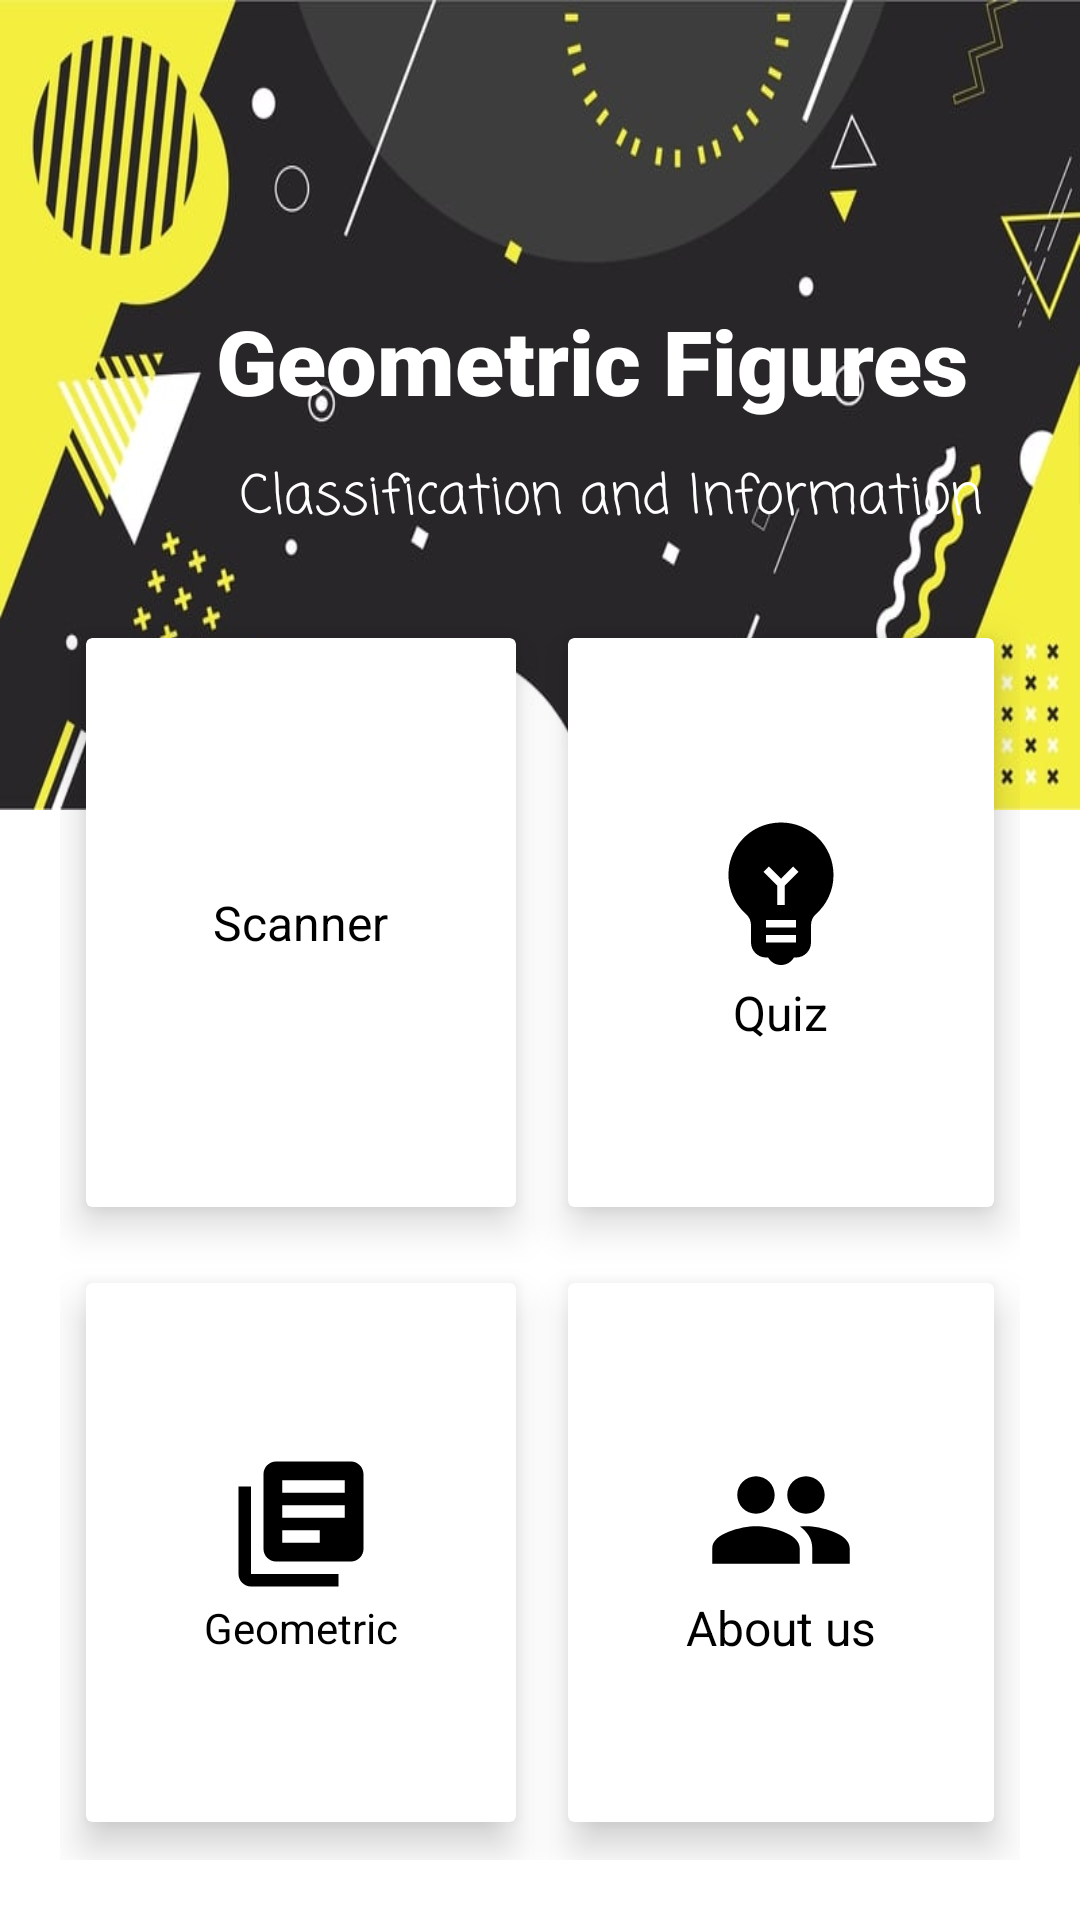

Screen size 1080*1920. Icon name, then its center in pixels as (x,y):
emoji objects: (781,893)
library books: (301,1524)
